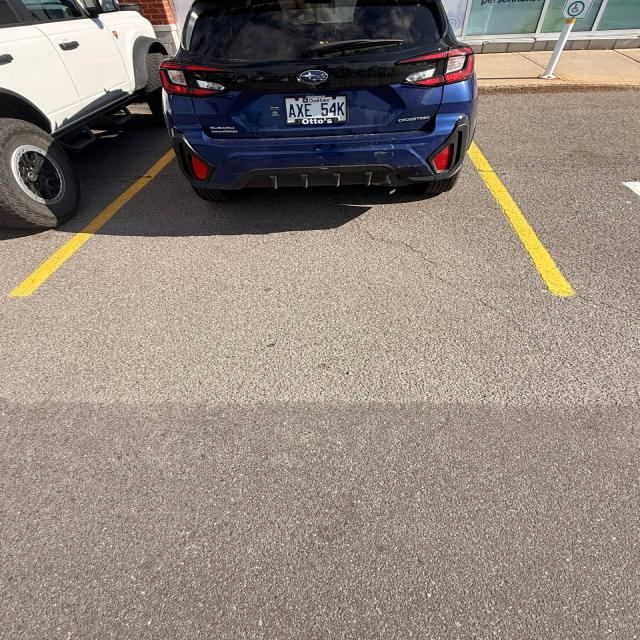plaque: (285, 96, 347, 124)
